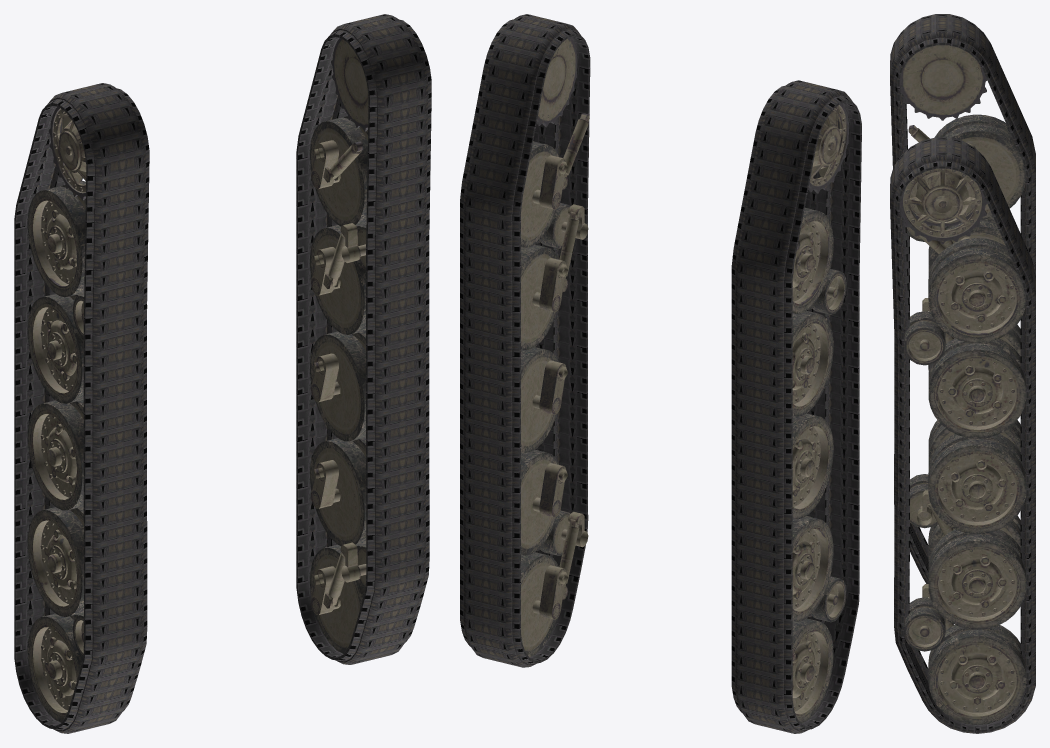
The model's file is Chassis.glb.
3 renders of one model, left to right at view 1: azimuth 30°, elevation 25°; view 2: azimuth 150°, elevation 25°; view 3: azimuth 270°, elevation 25°, orthographic. The views are drawn at different scales.
Visible parts, largest first — view 1: set_0_group_0, set_1_group_0, set_3_group_0, set_2_group_0; view 2: set_1_group_0, set_0_group_0, set_3_group_0, set_2_group_0; view 3: set_3_group_0, set_0_group_0, set_2_group_0, set_1_group_0.
Part boxes in pixels (left/top/right/bottom): set_0_group_0: left=296, top=14, right=431, bottom=664; set_1_group_0: left=14, top=83, right=149, bottom=733; set_3_group_0: left=310, top=38, right=368, bottom=653; set_2_group_0: left=27, top=107, right=147, bottom=722; set_1_group_0: left=731, top=80, right=861, bottom=733; set_0_group_0: left=460, top=14, right=590, bottom=667; set_3_group_0: left=521, top=37, right=589, bottom=657; set_2_group_0: left=792, top=103, right=848, bottom=723; set_3_group_0: left=900, top=168, right=1026, bottom=724; set_0_group_0: left=890, top=137, right=1035, bottom=733; set_2_group_0: left=900, top=45, right=1026, bottom=561; set_1_group_0: left=890, top=14, right=1035, bottom=583.
Size of the model in its own units: 2.9 by 5.19 by 1.19.
4 materials, 4 textured.
